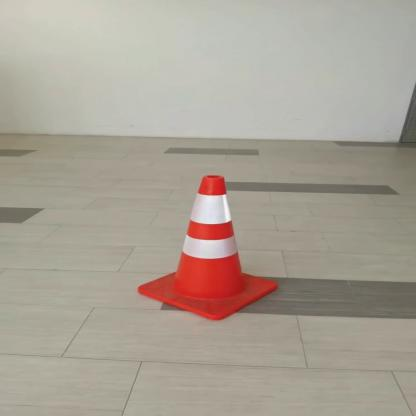cone: (125, 170, 289, 325)
